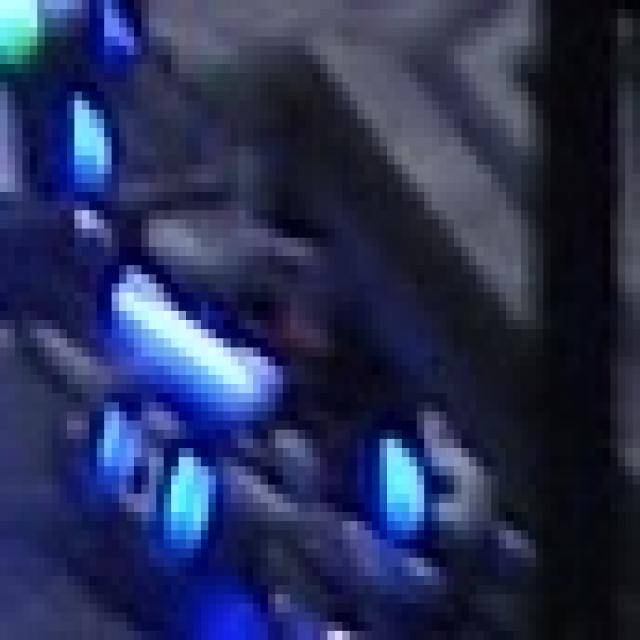B5: (90, 393, 224, 549)
